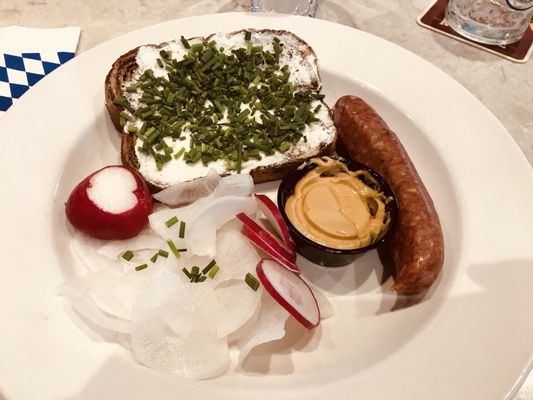sushi: (443, 0, 533, 45)
